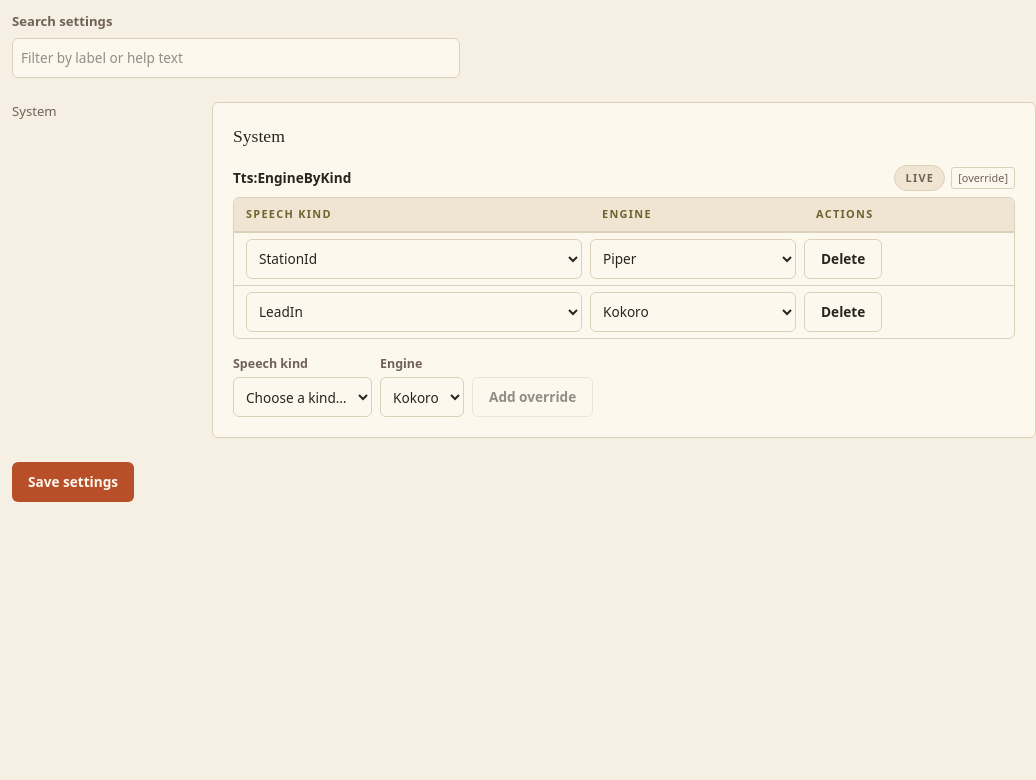
Feature: Tts:EngineByKind staging rides the dirty-pill pattern › Scenario: the unsaved-changes badge tracks the staged map › appears when a row's engine is re-pinned
This screenshot has width=1036, height=780.
Select "Kokoro" in the dropdown named "Engine for override 1" at (693, 259), box [590,239,796,279]
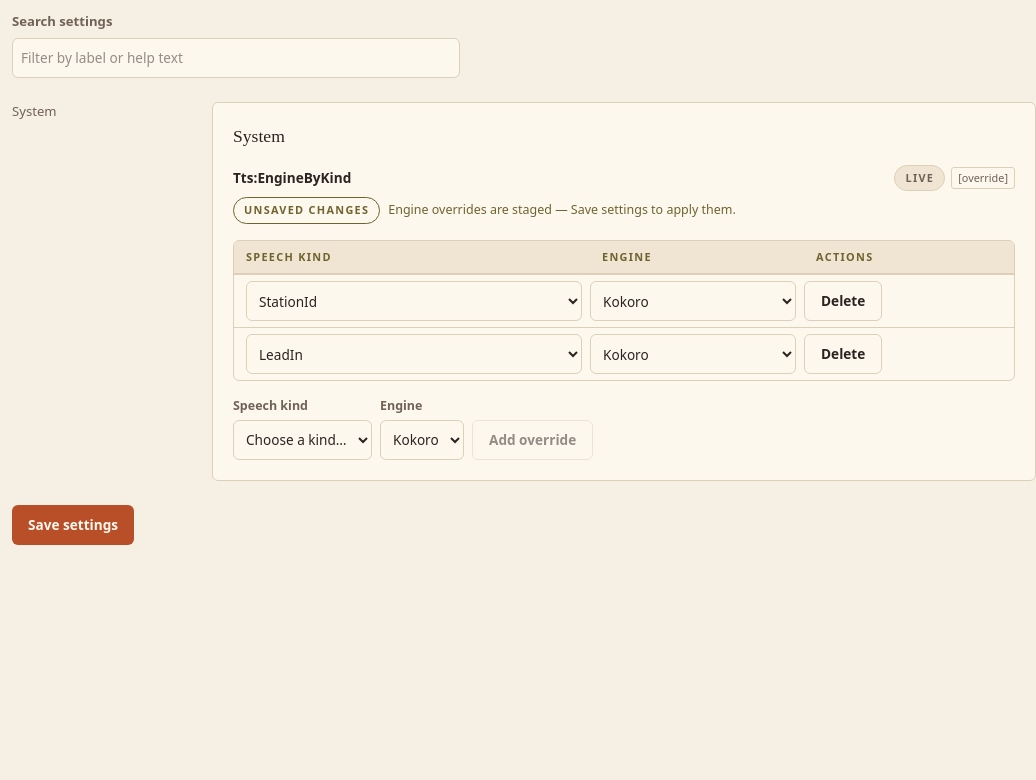
Result: the message with test id "engine-by-kind-dirty-notice" shows "Unsaved changes" at [244,202,369,217]
